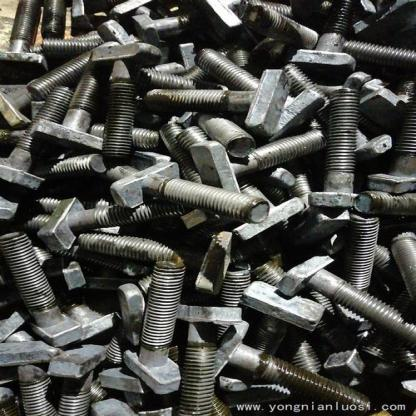FOD: (280, 252, 415, 338), (0, 230, 85, 348), (110, 161, 269, 223), (123, 258, 187, 396), (89, 42, 162, 160), (305, 86, 362, 209)
